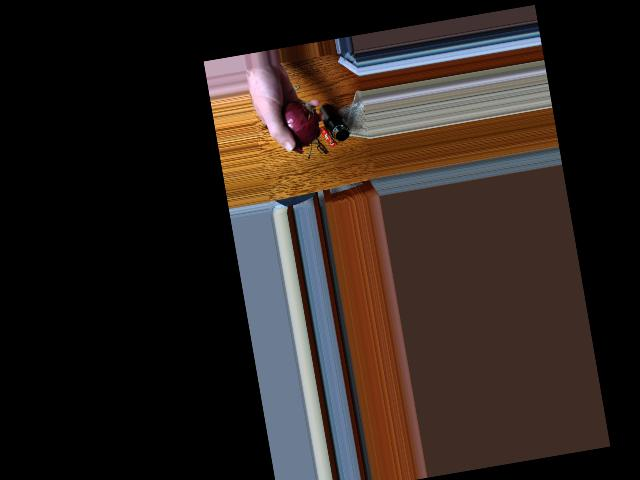onion: (274, 97, 320, 145)
